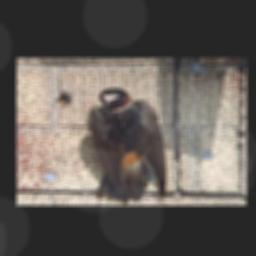Swallow: (87, 87, 169, 204)
